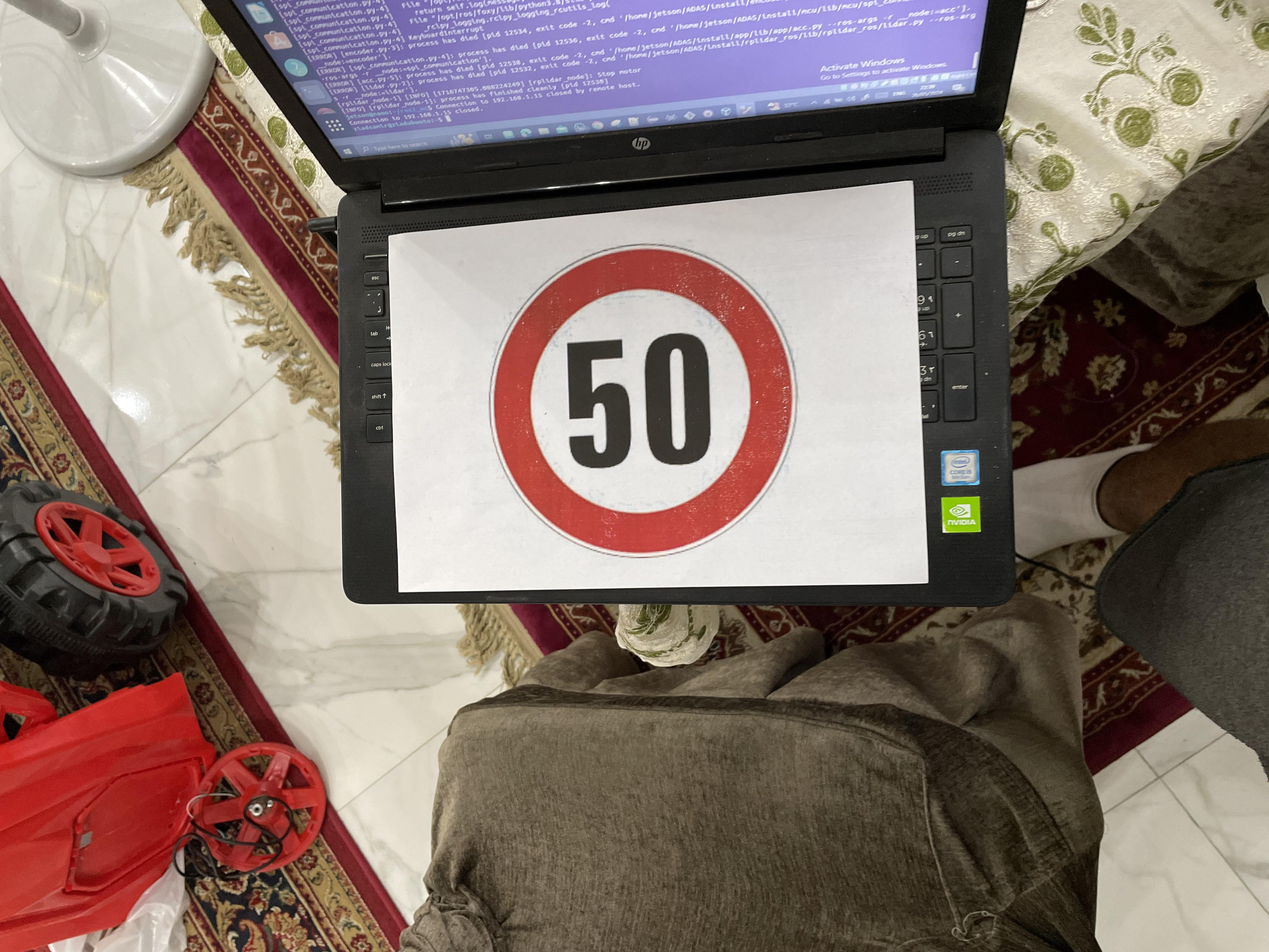50-Speed: (517, 362, 942, 594)
